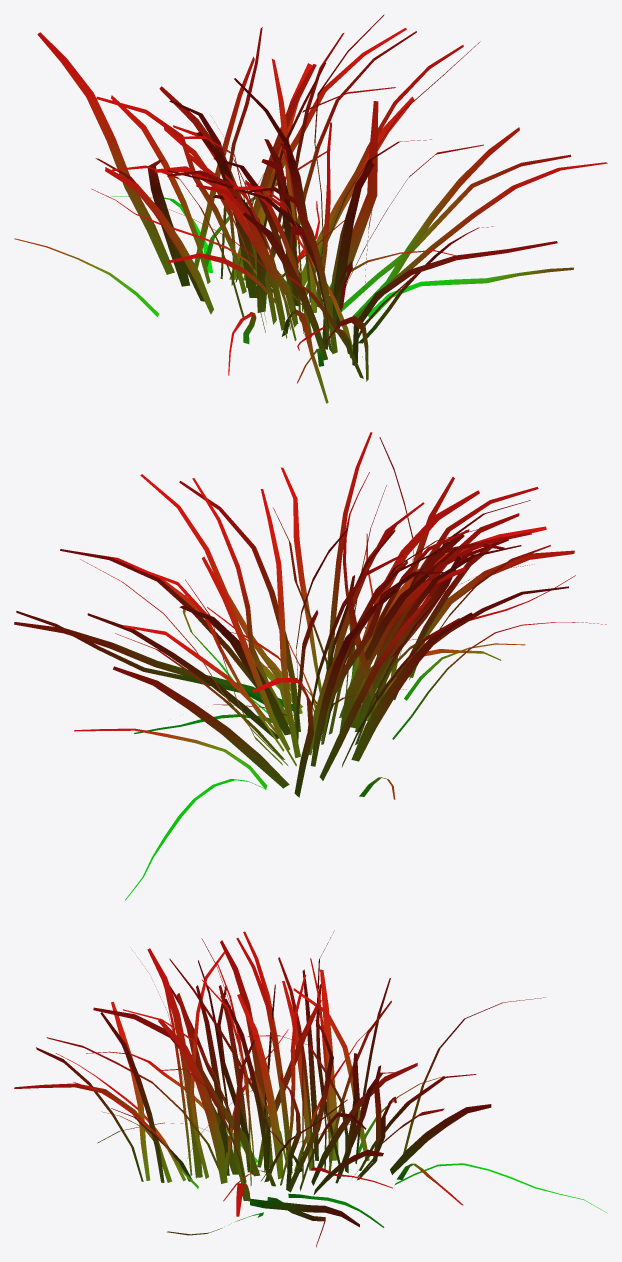
Rendered from Var7_LOD1.fbx.
3 views of the same model, one above another, from view 1: azimuth 30°, elevation 25°; view 2: azimuth 150°, elevation 25°; view 3: azimuth 270°, elevation 25° (orthographic). The views are drawn at different scales.
Visible parts, largest first — view 1: _zx1v_Var7_LOD1; view 2: _zx1v_Var7_LOD1; view 3: _zx1v_Var7_LOD1.
Boxes of the visible parts, x1,y1,x2,y2 form: _zx1v_Var7_LOD1: (14,14,607,403); _zx1v_Var7_LOD1: (14,432,606,900); _zx1v_Var7_LOD1: (14,930,607,1247).
Bounding box in the file's own units: 23.66 × 12.98 × 29.62.
